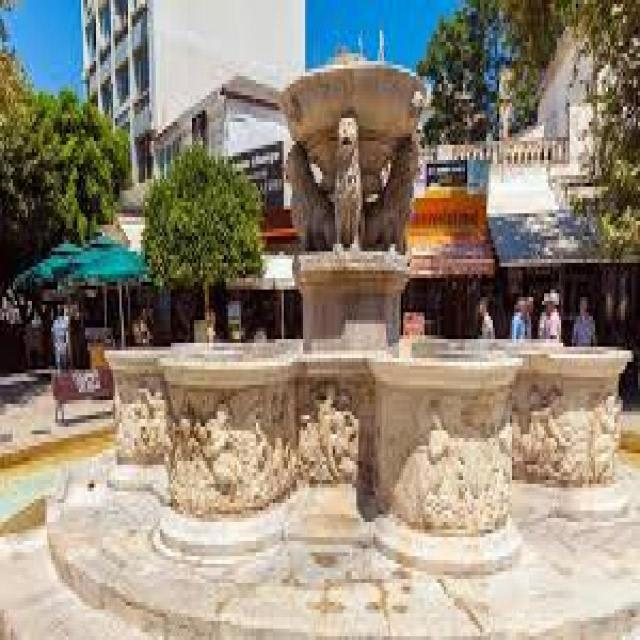Liontaria: (113, 56, 633, 553)
